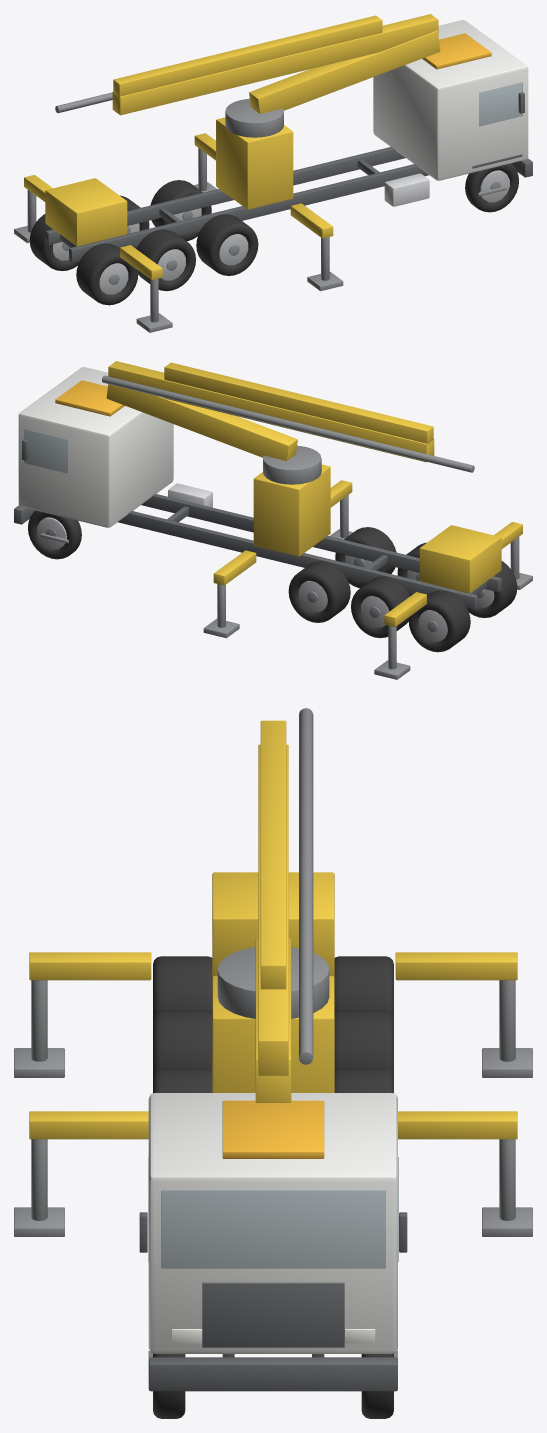
The model's file is EQP-CON-006_anim.glb.
The picture shows the model from 3 angles, top to bottom: view 1: azimuth 30°, elevation 25°; view 2: azimuth 150°, elevation 25°; view 3: azimuth 270°, elevation 25°; orthographic projection. The views are drawn at different scales.
Visible parts, largest first — view 1: EQP-CON-006_anim3, EQP-CON-006_anim1, EQP-CON-006_anim2, EQP-CON-006_anim0; view 2: EQP-CON-006_anim3, EQP-CON-006_anim1, EQP-CON-006_anim2, EQP-CON-006_anim0; view 3: EQP-CON-006_anim3, EQP-CON-006_anim1, EQP-CON-006_anim2, EQP-CON-006_anim0.
Boxes of the visible parts, x1,y1,x2,y2 form: EQP-CON-006_anim3: [14, 20, 532, 332]; EQP-CON-006_anim1: [55, 14, 438, 115]; EQP-CON-006_anim2: [113, 15, 382, 97]; EQP-CON-006_anim0: [249, 30, 440, 113]; EQP-CON-006_anim3: [14, 367, 532, 679]; EQP-CON-006_anim1: [102, 361, 474, 472]; EQP-CON-006_anim2: [164, 362, 433, 444]; EQP-CON-006_anim0: [106, 384, 297, 460]; EQP-CON-006_anim3: [14, 872, 532, 1418]; EQP-CON-006_anim1: [258, 708, 313, 1075]; EQP-CON-006_anim2: [260, 720, 286, 989]; EQP-CON-006_anim0: [255, 938, 291, 1102].
Size of the model in its own units: 9.58 by 4 by 5.1.
